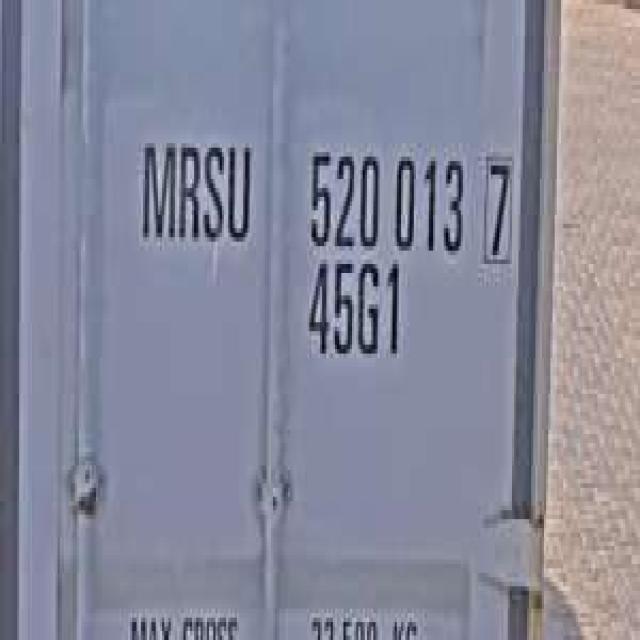dv: (478, 143, 516, 273)
owner: (134, 121, 256, 259)
serial: (301, 134, 467, 260)
size: (301, 255, 405, 372)
